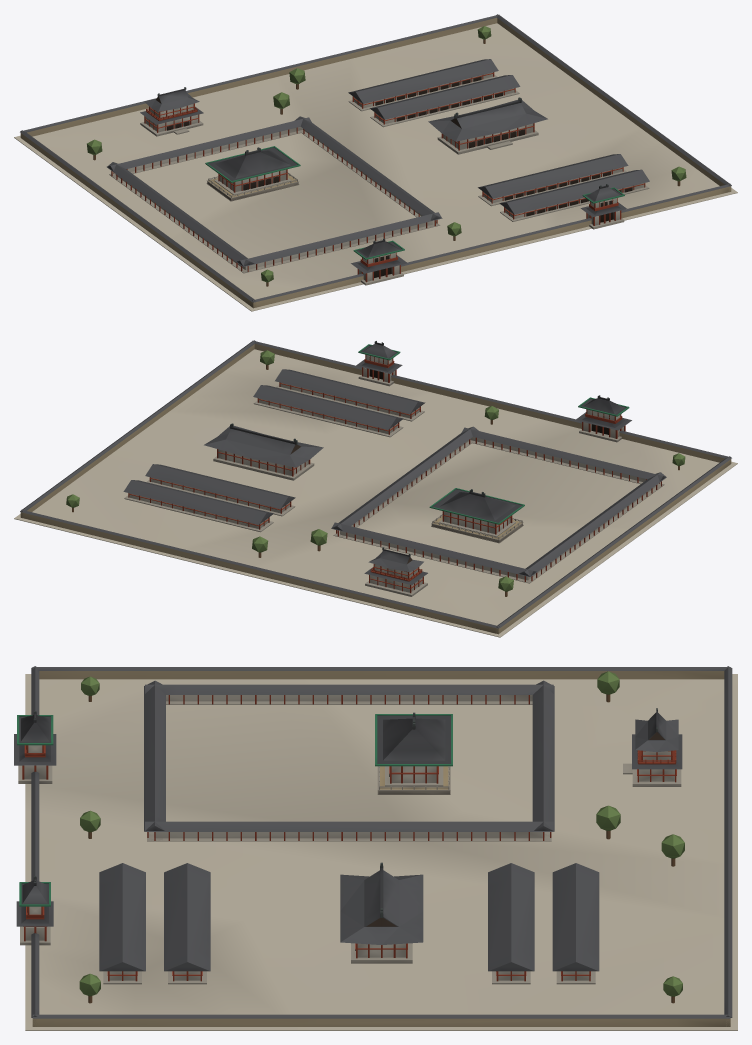
The model's file is guozijian.glb.
The picture shows the model from 3 angles, top to bottom: view 1: azimuth 30°, elevation 25°; view 2: azimuth 150°, elevation 25°; view 3: azimuth 270°, elevation 25°; orthographic projection. The views are drawn at different scales.
Visible parts, largest first — view 1: p0_walls, p2_trees, p1_halls; view 2: p0_walls, p2_trees, p1_halls; view 3: p0_walls, p2_trees, p1_halls.
Boxes of the visible parts, bbox=[...] form: p0_walls: bbox=[14, 14, 737, 311]; p2_trees: bbox=[87, 26, 686, 286]; p1_halls: bbox=[140, 72, 649, 285]; p0_walls: bbox=[14, 340, 737, 637]; p2_trees: bbox=[66, 341, 685, 596]; p1_halls: bbox=[124, 354, 625, 596]; p0_walls: bbox=[25, 666, 737, 1030]; p2_trees: bbox=[14, 671, 684, 1003]; p1_halls: bbox=[18, 745, 681, 984].
Bounding box in the file's own units: 260 × 19.25 × 224.
